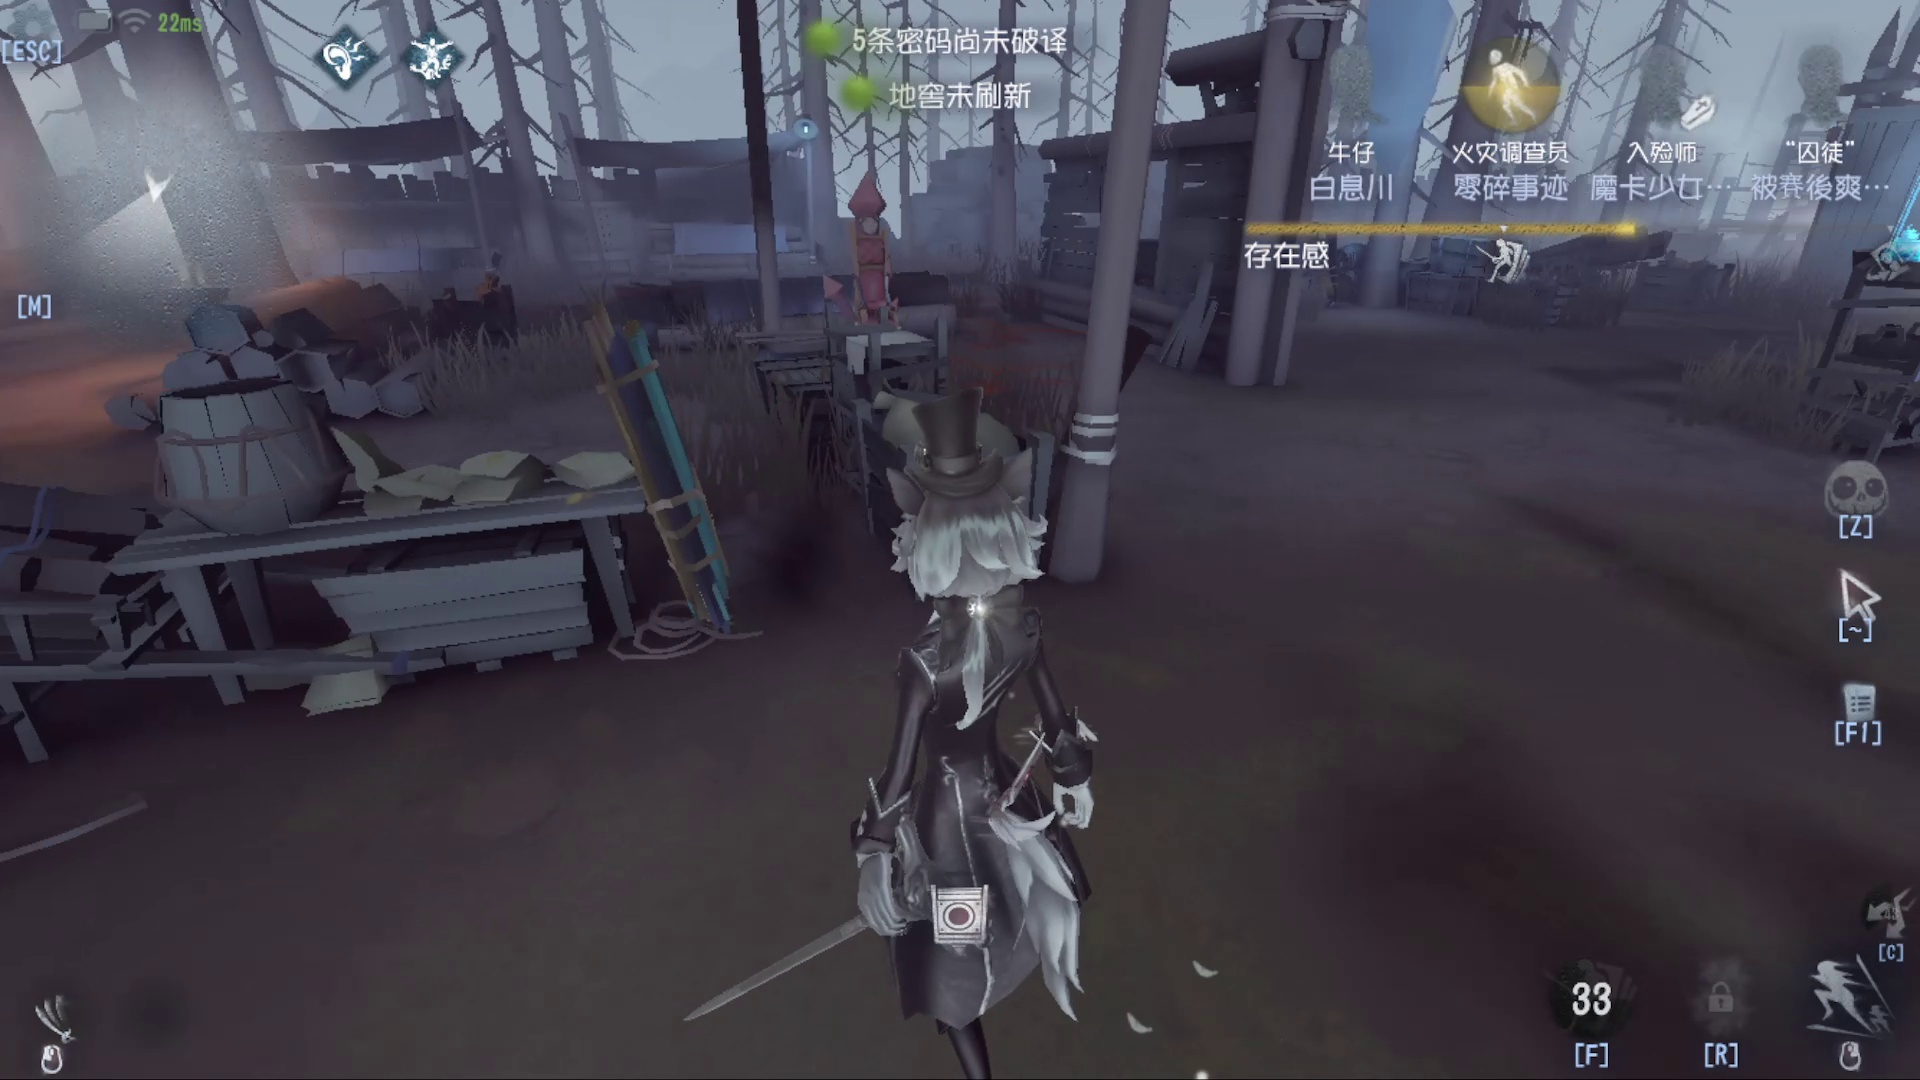木板: (535, 291, 771, 634)
狂欢之椅: (807, 164, 916, 367)
